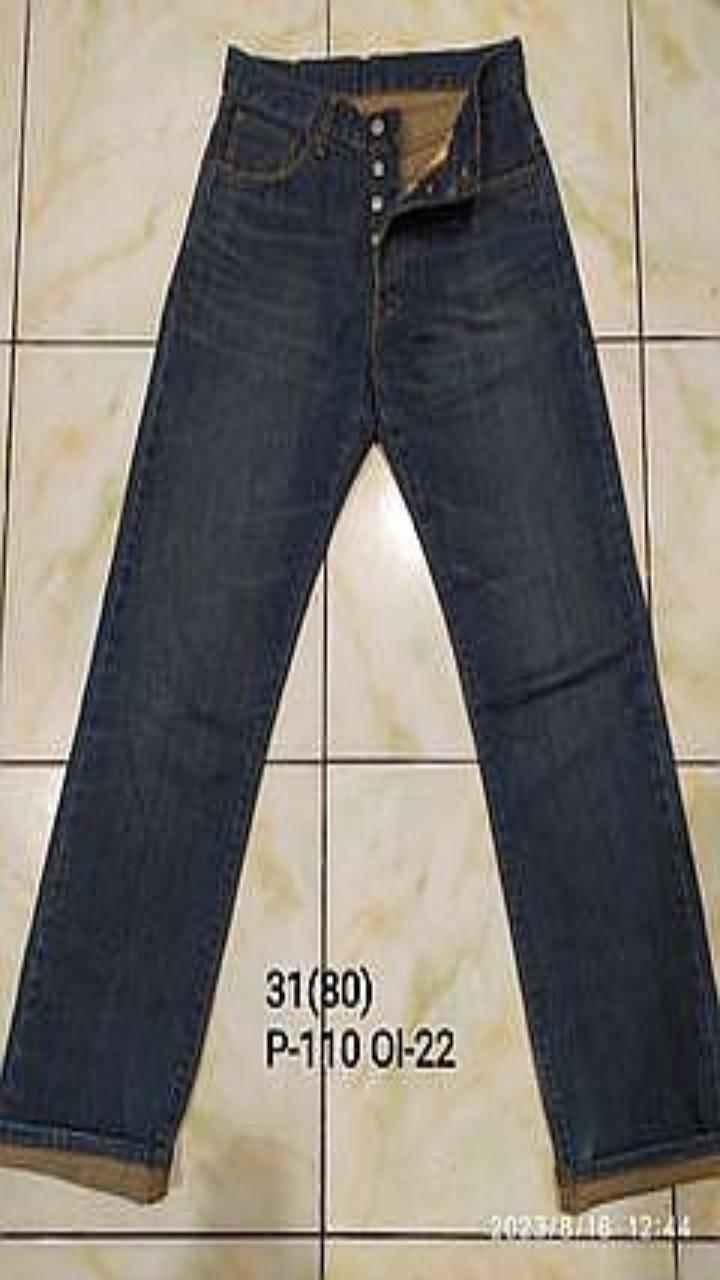Jeans: (0, 36, 719, 1212)
